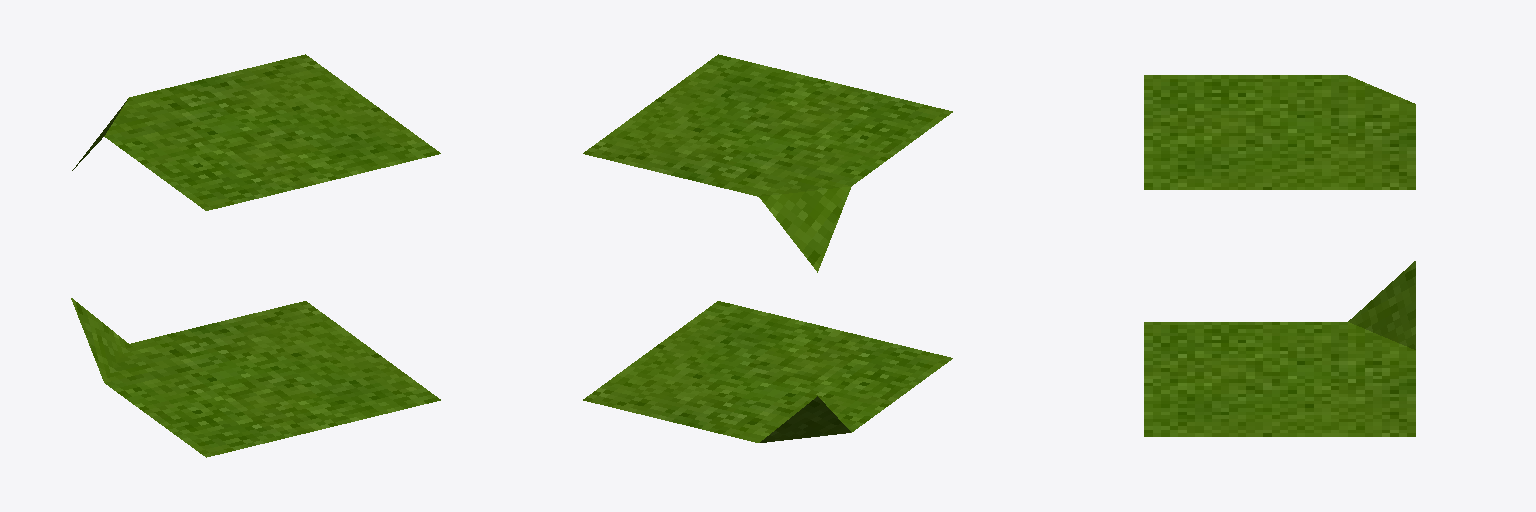
3 views of the same model, side by side, from view 1: azimuth 30°, elevation 25°; view 2: azimuth 150°, elevation 25°; view 3: azimuth 270°, elevation 25° (orthographic).
Visible parts, largest first — view 1: Cube.001; view 2: Cube.001; view 3: Cube.001.
Part boxes in pixels (bbox=[...]): Cube.001: bbox=[71, 54, 440, 457]; Cube.001: bbox=[583, 54, 952, 442]; Cube.001: bbox=[1144, 75, 1415, 436].
Size of the model in its own units: 1 by 1 by 1.
1 materials, 1 textured.